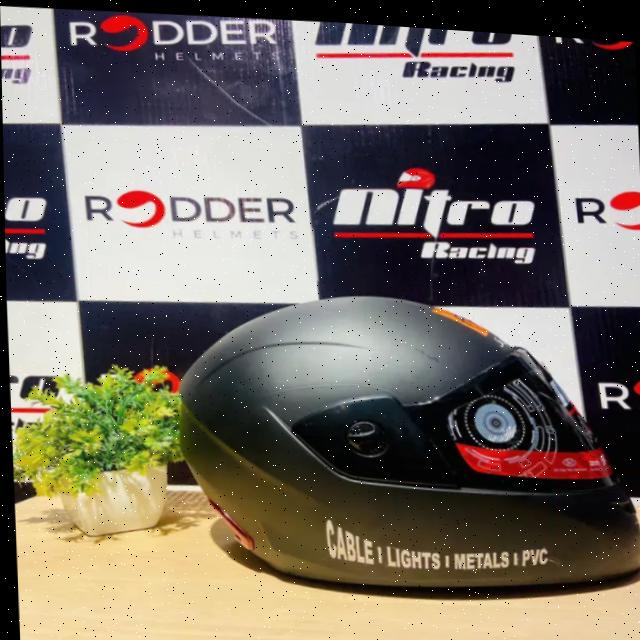Helmet: (205, 242, 640, 634)
